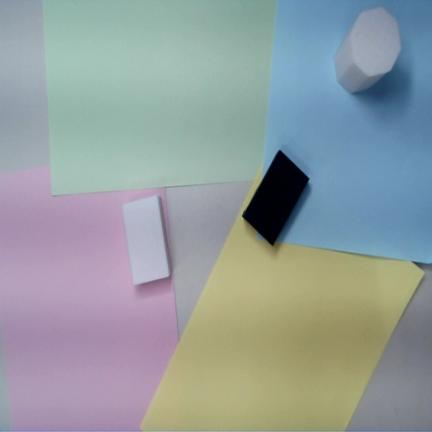Paralelepipedo: (242, 148, 310, 247), (121, 196, 172, 284)
Prisma_hexagonal: (334, 6, 402, 93)
